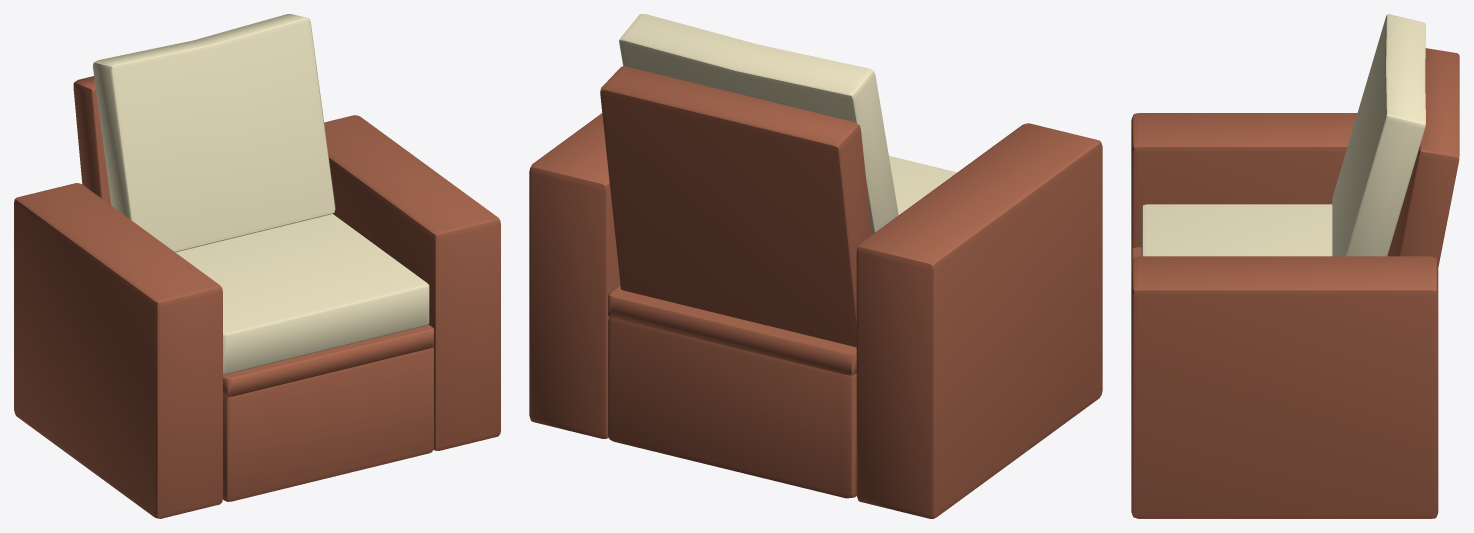
The model's file is SM_FauteuilJardin.FBX.
3 views of the same model, side by side, from view 1: azimuth 30°, elevation 25°; view 2: azimuth 150°, elevation 25°; view 3: azimuth 270°, elevation 25° (orthographic). The views are drawn at different scales.
Visible parts, largest first — view 1: Box007; view 2: Box007; view 3: Box007.
Boxes of the visible parts, left/top/right/bottom form: Box007: left=14, top=14, right=500, bottom=518; Box007: left=529, top=14, right=1102, bottom=518; Box007: left=1131, top=14, right=1459, bottom=518.
Bounding box in the file's own units: 160 × 155 × 125.
Materials: 1 (1 with a texture image).
